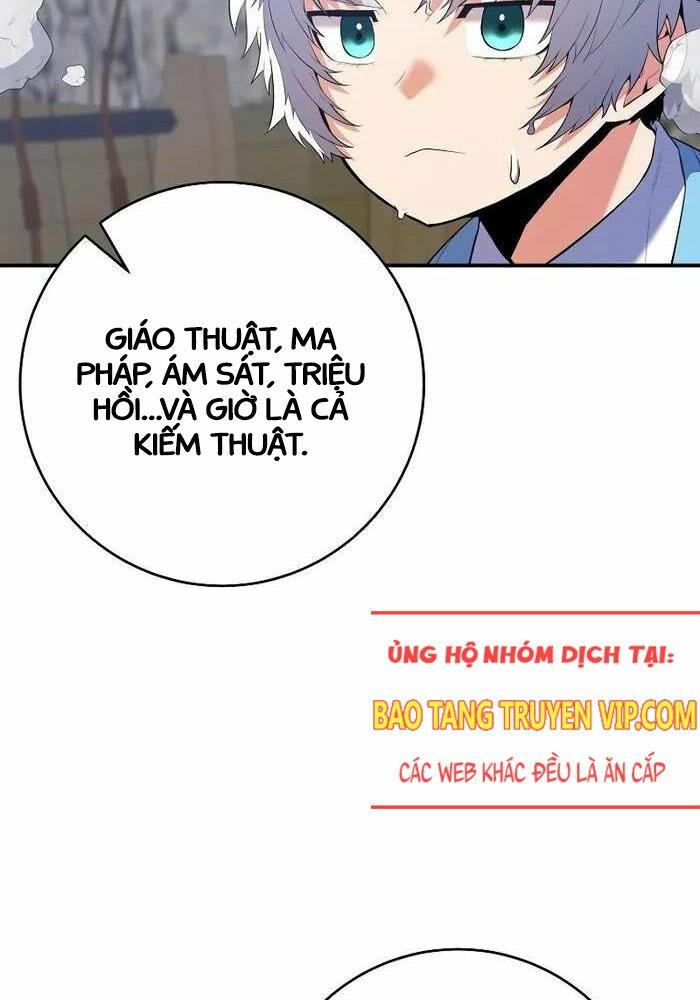quangcao: (373, 611, 700, 807)
